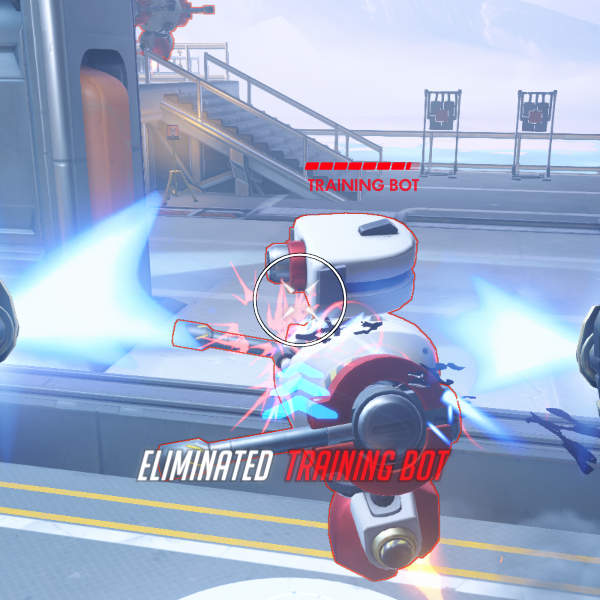hpbar: (304, 161, 420, 171)
